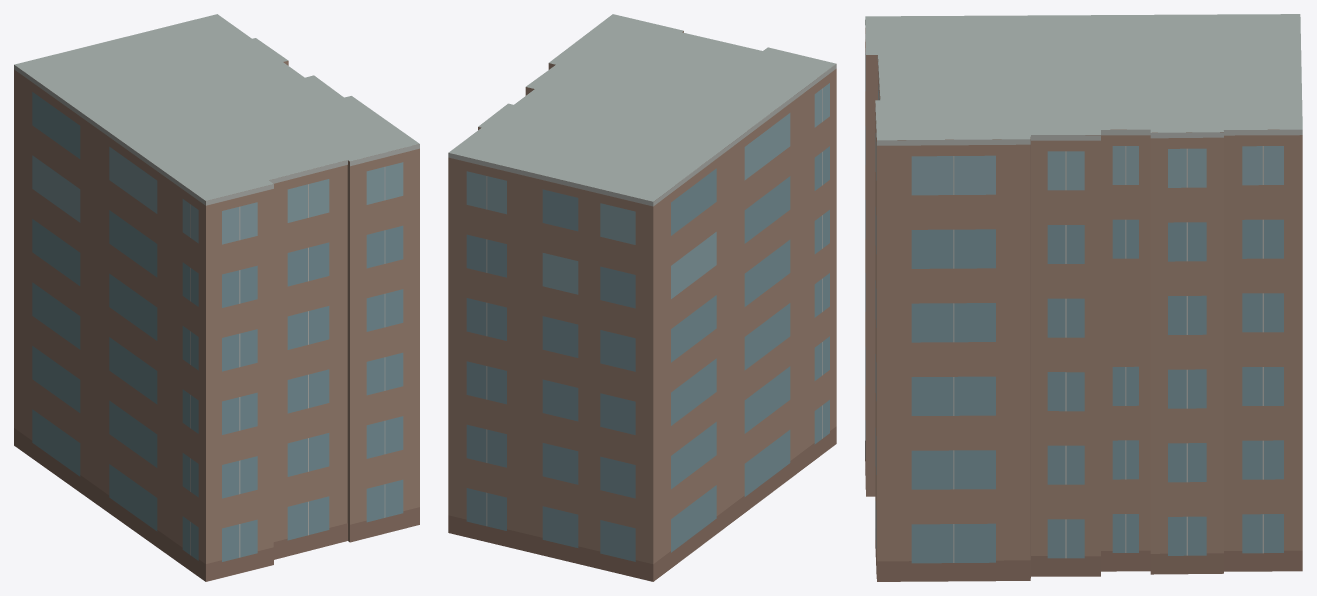
File: survey-upis-32822034.glb
The picture shows the model from 3 angles, left to right: view 1: azimuth 30°, elevation 25°; view 2: azimuth 150°, elevation 25°; view 3: azimuth 270°, elevation 25°; orthographic projection. The views are drawn at different scales.
Visible parts, largest first — view 1: survey-upis-32822034.tmp; view 2: survey-upis-32822034.tmp; view 3: survey-upis-32822034.tmp.
Part boxes in pixels (x1,y1,x2,y2): survey-upis-32822034.tmp: (14,14,419,581); survey-upis-32822034.tmp: (448,14,836,581); survey-upis-32822034.tmp: (865,14,1302,581).
Size of the model in its own units: 11.97 by 19.5 by 17.52.
